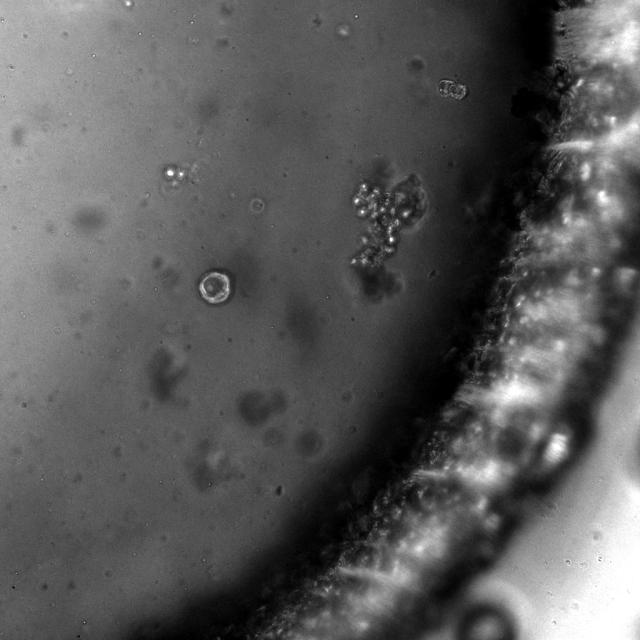organoid: (349, 160, 429, 302), (147, 347, 185, 401), (237, 388, 287, 426), (197, 269, 234, 305), (438, 78, 468, 100), (162, 163, 186, 187), (251, 198, 265, 212)
